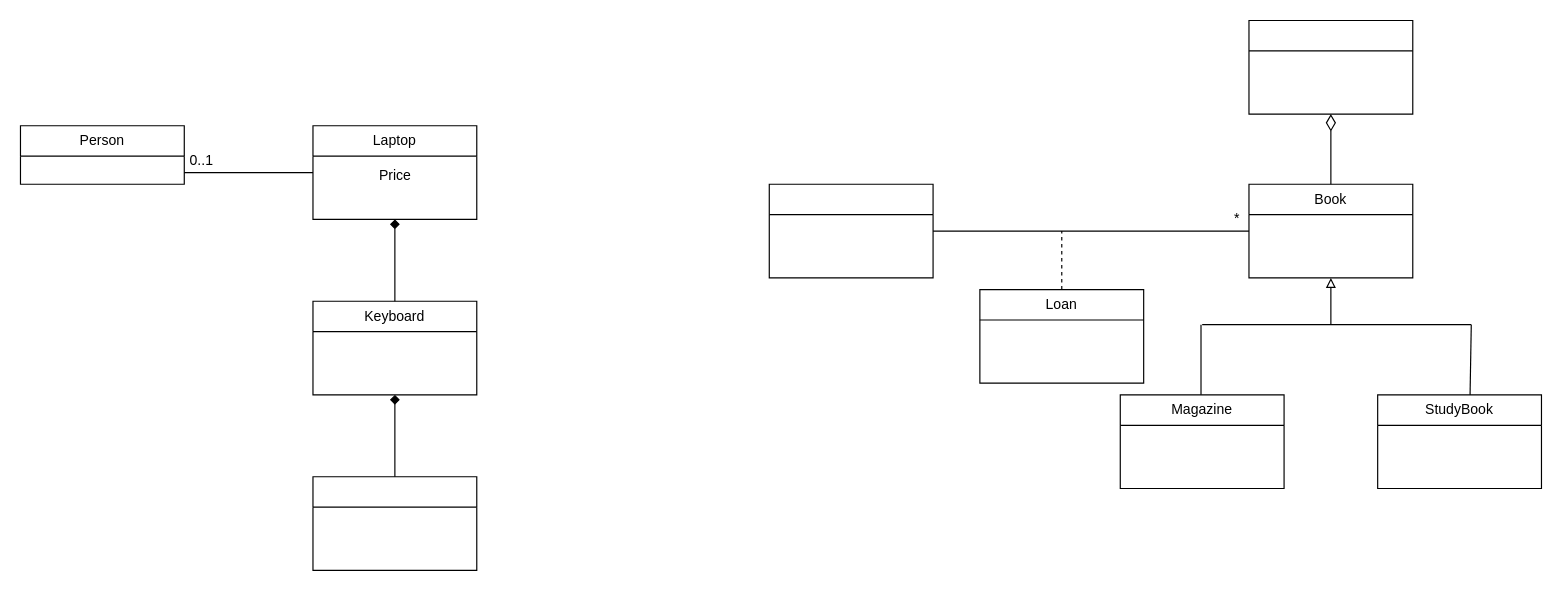
The diagram is 1562 pixels wide and 591 high, and some of its shapes have lost their labels. The centre of each missing label's shape, as x and y in pixels:
Keys: the point at 394,523
Library: the point at 1330,66
Member: the point at 850,230
